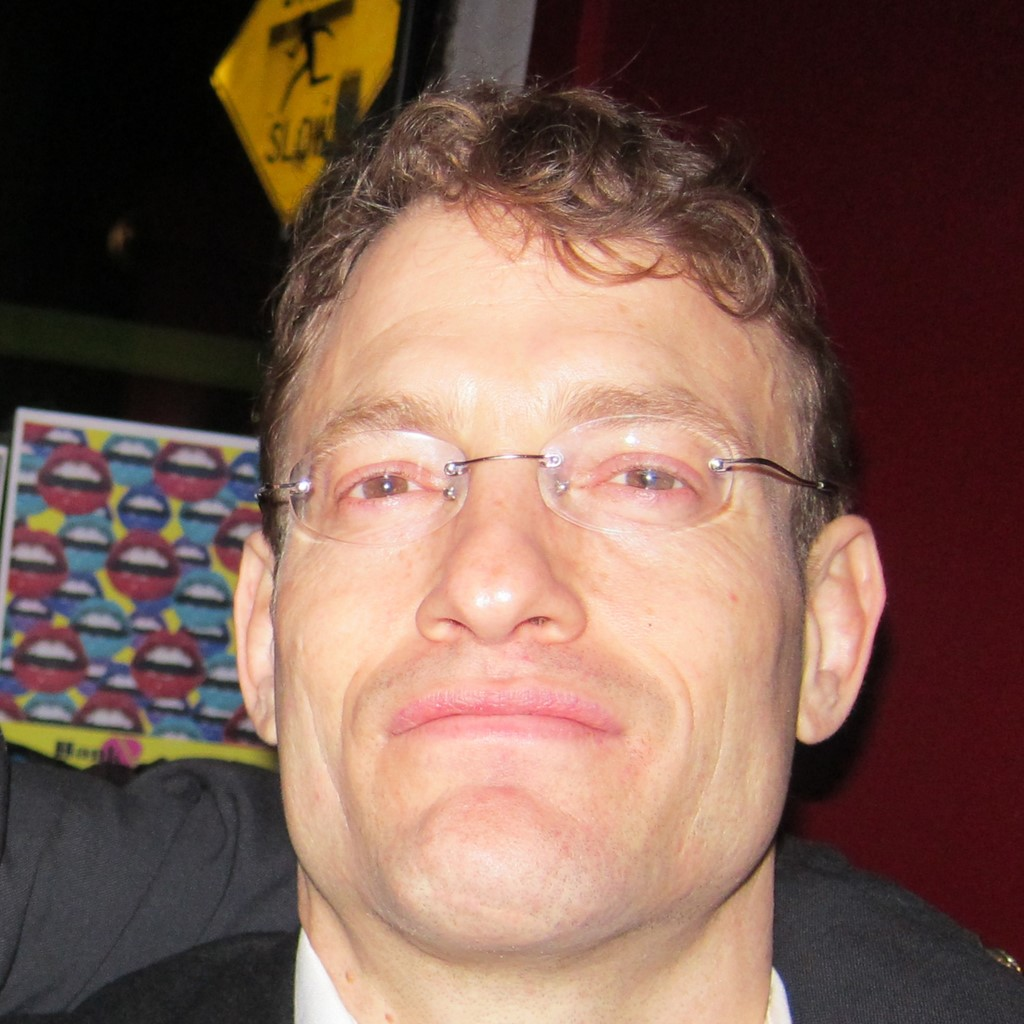sin_mascara: (270, 188, 810, 924)
